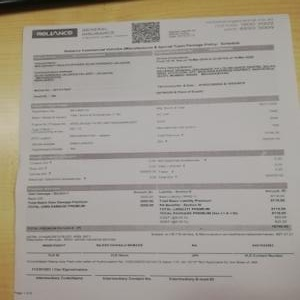image: (30, 27, 81, 41)
table: (32, 43, 277, 97), (30, 96, 282, 148), (26, 180, 289, 228), (25, 148, 287, 180)
text: (204, 16, 276, 35)
